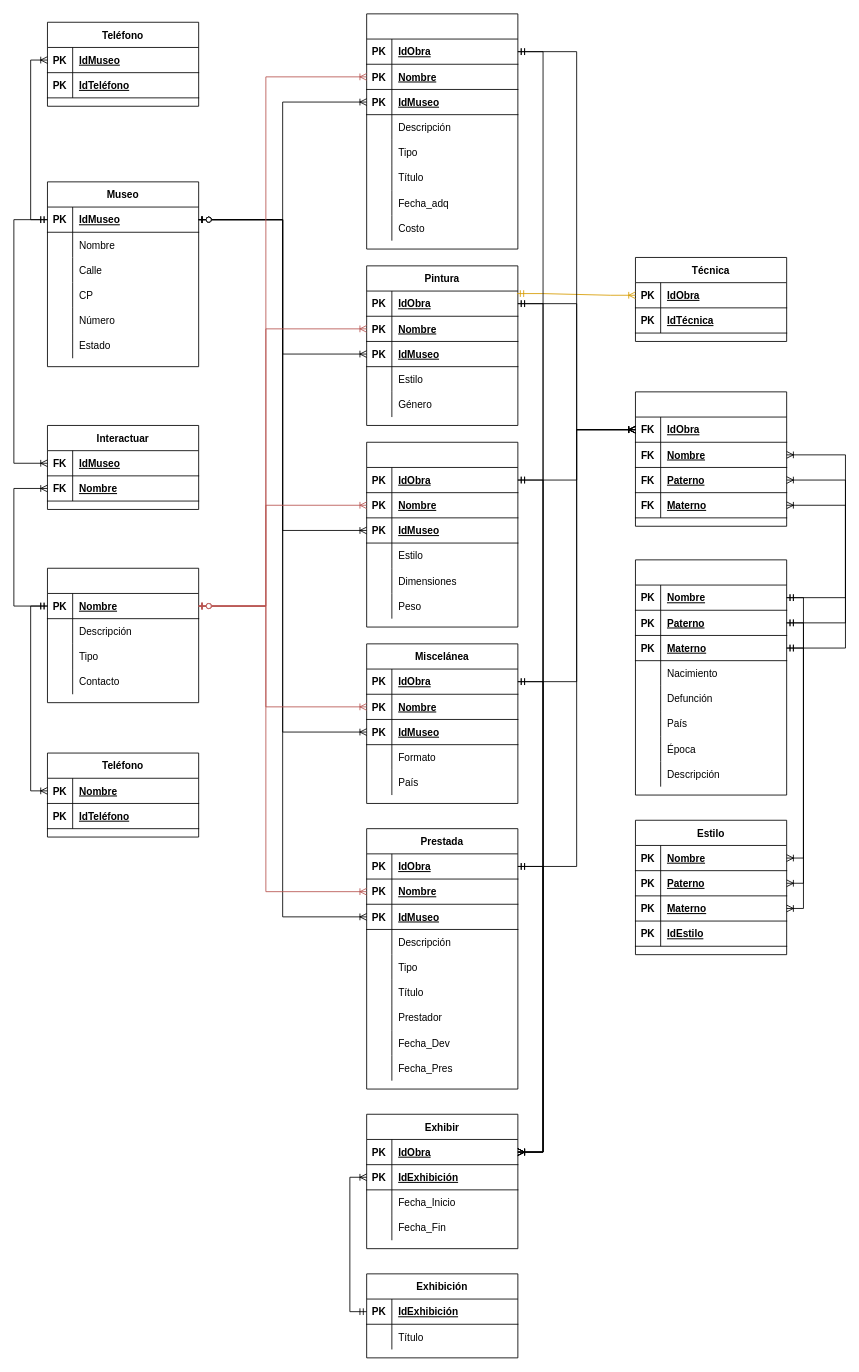
The diagram is 859 pixels wide and 1372 high, and some of its shapes have lost their labels. The shapes that lost their labels are listed below. From the top down, each one's box as (x1, y1, x2, y2) in pixels, then its label:
(366, 13, 518, 249): Permanente
(635, 391, 787, 526): Crear
(366, 441, 518, 627): Escultura
(47, 567, 199, 703): Colección
(635, 559, 787, 795): Artista
